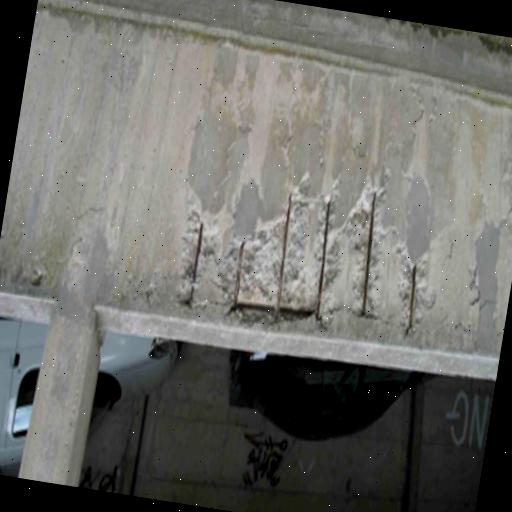spalling: (150, 168, 446, 344)
